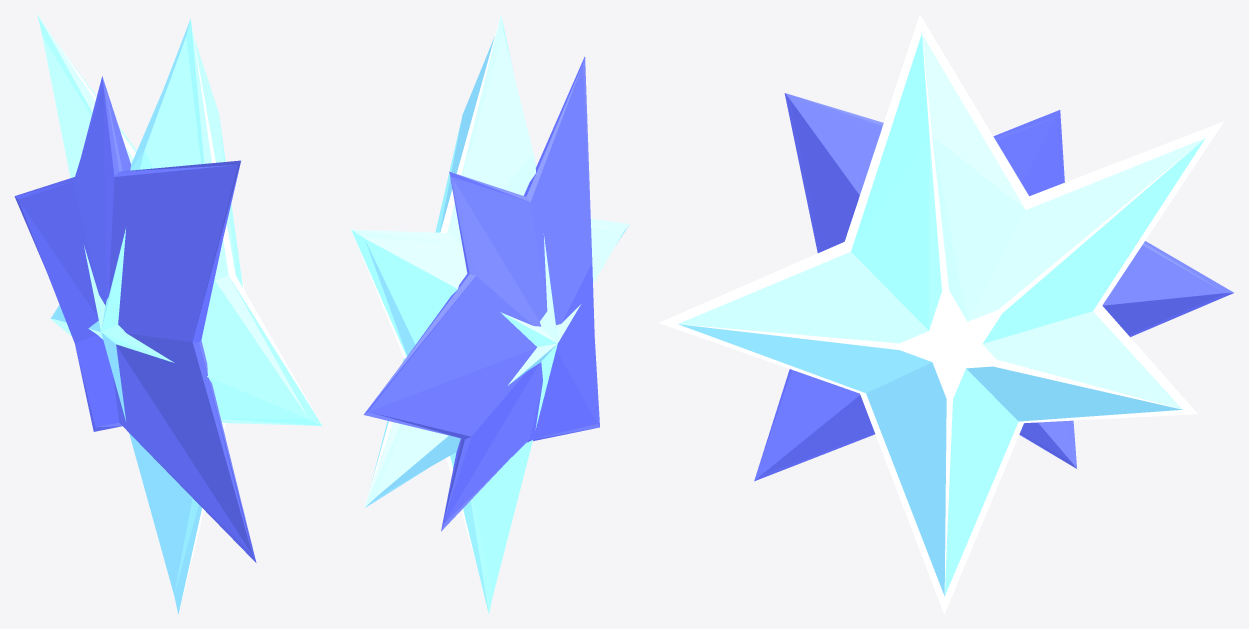
The model's file is shard-morning.glb.
3 views of the same model, side by side, from view 1: azimuth 30°, elevation 25°; view 2: azimuth 150°, elevation 25°; view 3: azimuth 270°, elevation 25° (orthographic). The views are drawn at different scales.
Visible parts, largest first — view 1: crystal; view 2: crystal; view 3: crystal.
Boxes of the visible parts, x1=… form: crystal: x1=14, y1=14, x2=322, y2=614; crystal: x1=351, y1=14, x2=629, y2=613; crystal: x1=659, y1=14, x2=1233, y2=614.
Size of the model in its own units: 0.0875 by 0.35 by 0.304.
